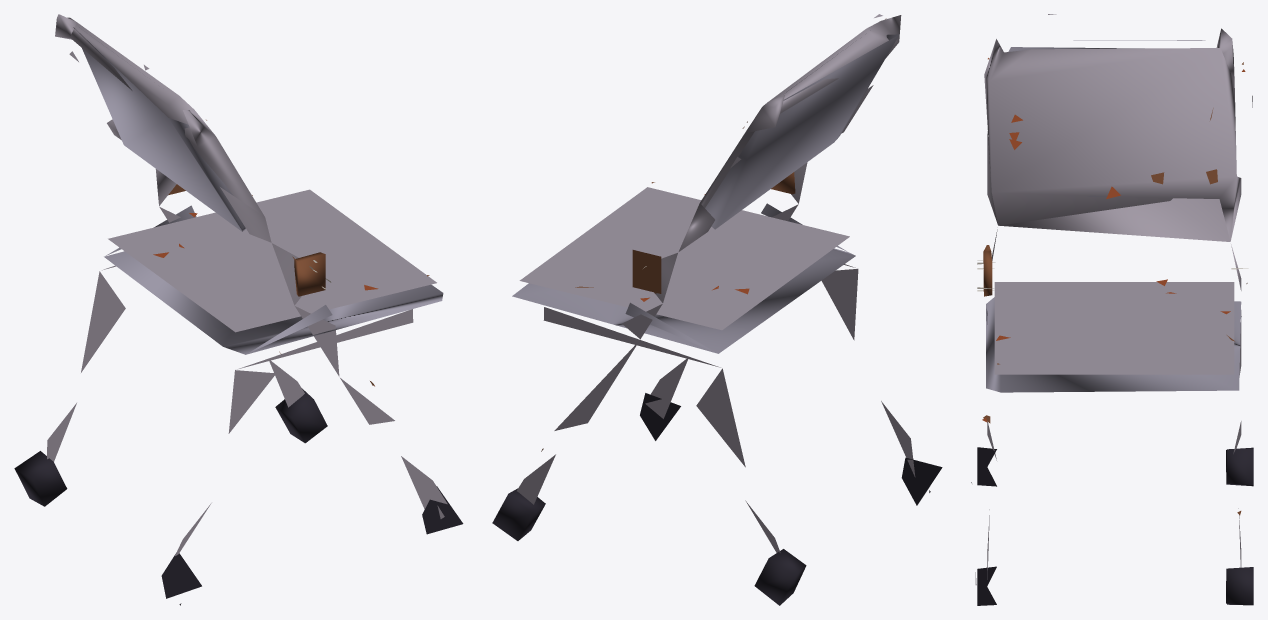
Rendered from prop.folding-chair.lod2.glb.
The picture shows the model from 3 angles, left to right: view 1: azimuth 30°, elevation 25°; view 2: azimuth 150°, elevation 25°; view 3: azimuth 270°, elevation 25°; orthographic projection. The views are drawn at different scales.
Bounding box in the file's own units: 0.6439 × 1.03 × 0.5559.
